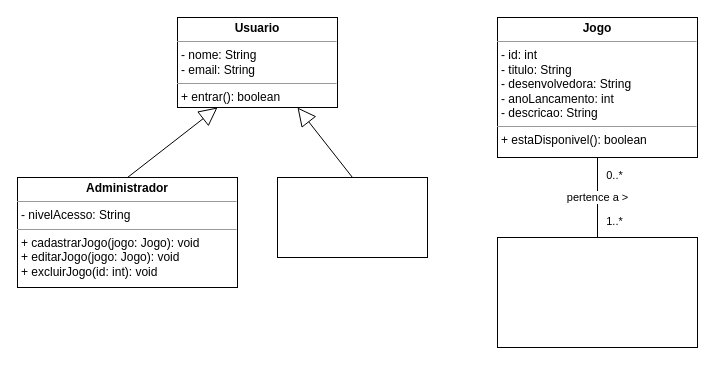
This 715x365 diagram has some shape labels left out. The centre of each missing label's shape, as x and y in pixels:
Console - id: int - nome: String - fabricante: String - epoca: String: point (597, 292)
Visitante + navegar(): void: point (352, 217)
